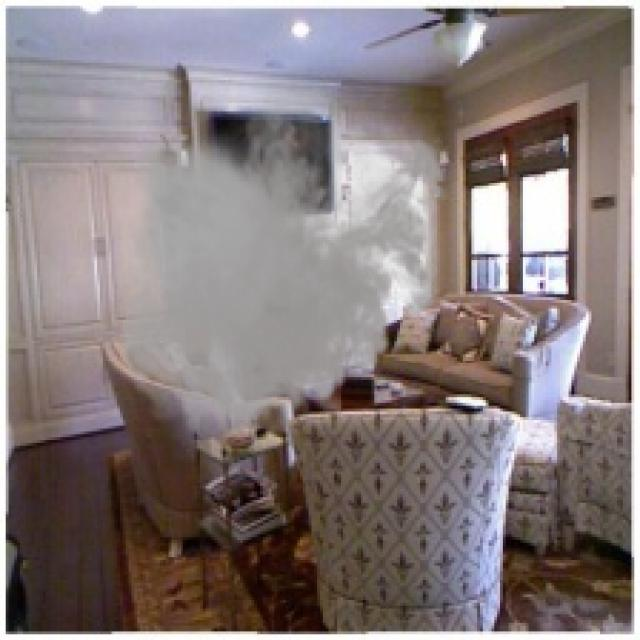smoke: (109, 80, 457, 449)
